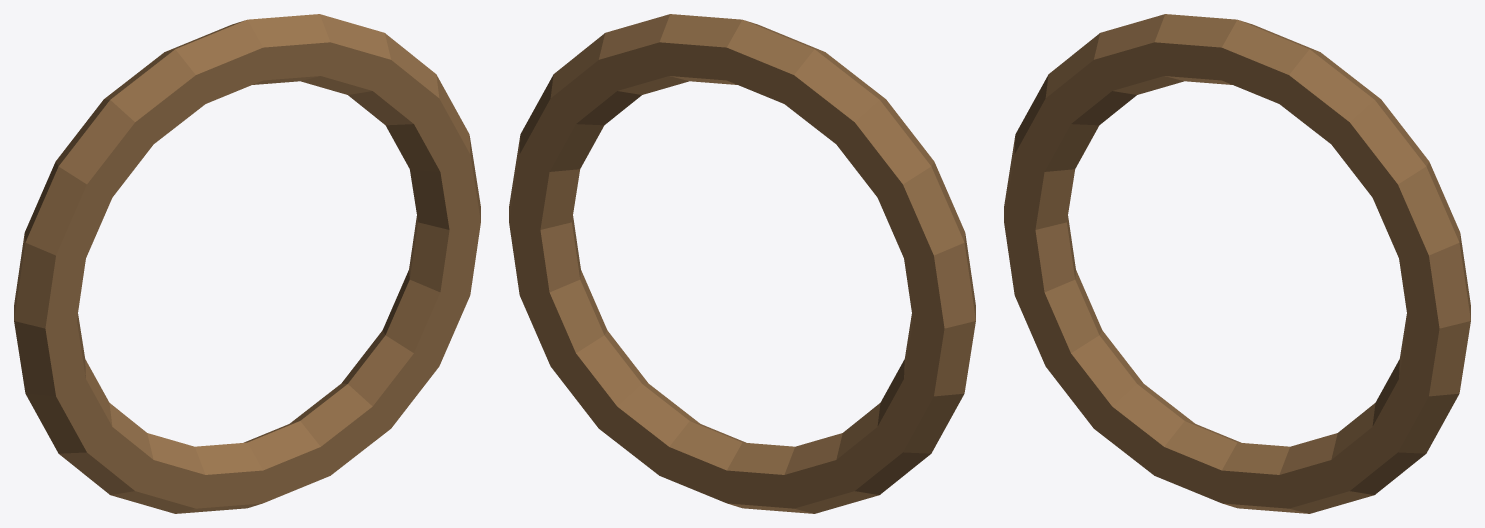
File: objects-cartwheel.lod0.glb
3 views of the same model, side by side, from view 1: azimuth 30°, elevation 25°; view 2: azimuth 150°, elevation 25°; view 3: azimuth 330°, elevation 25° (orthographic).
Parts seen in each view (by area): view 1: objects-cartwheel__body; view 2: objects-cartwheel__body; view 3: objects-cartwheel__body.
Boxes of the visible parts, <box> form: objects-cartwheel__body: <box>14,14,480,513</box>; objects-cartwheel__body: <box>509,14,975,513</box>; objects-cartwheel__body: <box>1004,14,1470,513</box>.
Bounding box in the file's own units: 1.04 × 1.04 × 0.1212.
